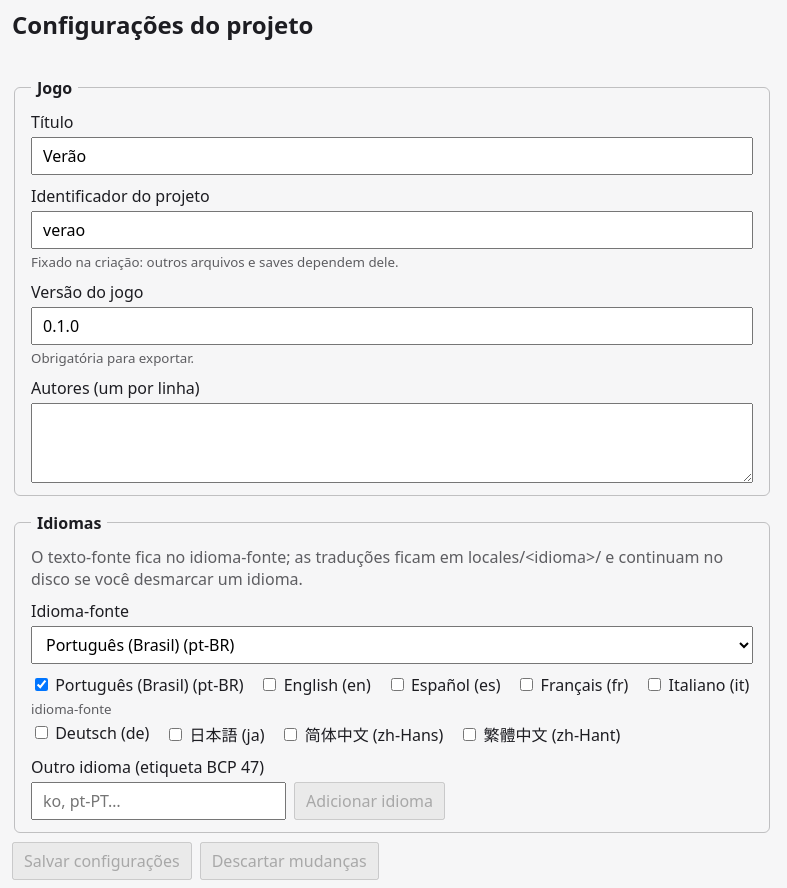
Test: ProjectSettings (M7-10) › descarta mudanças
The width and height of the screenshot is (787, 888).
Replace the text in the field labelled "Título" with "Outro". click: (392, 156)
box: [31, 137, 753, 175]
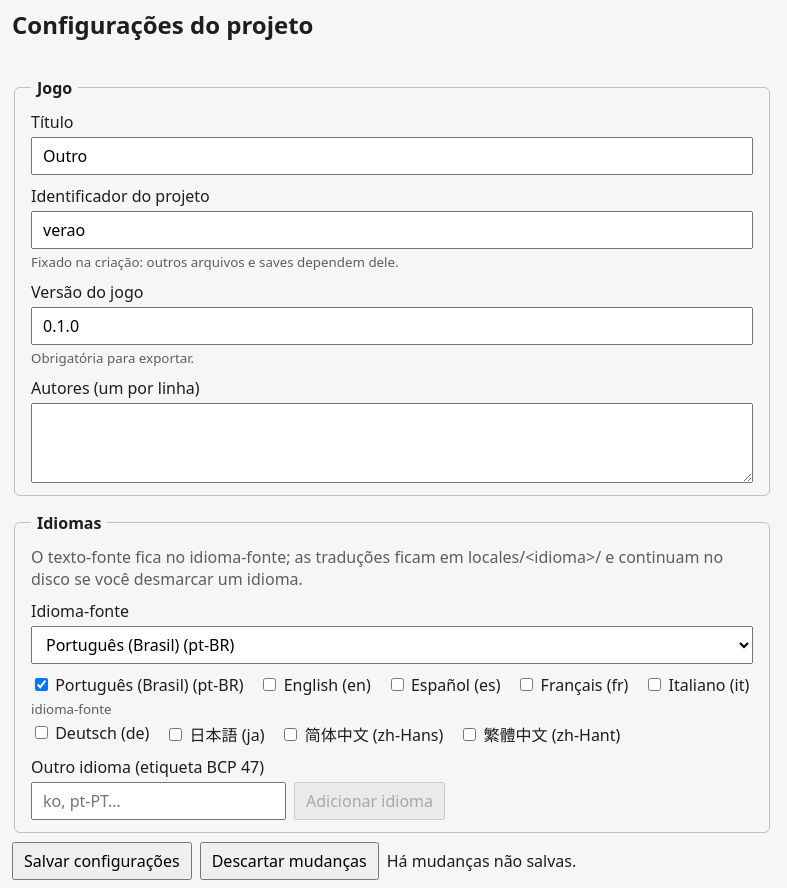
expect the text "Há mudanças não salvas." is shown: met, box [387, 850, 576, 872]
Click the button "Descartar mudanças". click: (289, 861)
box: [200, 842, 379, 880]
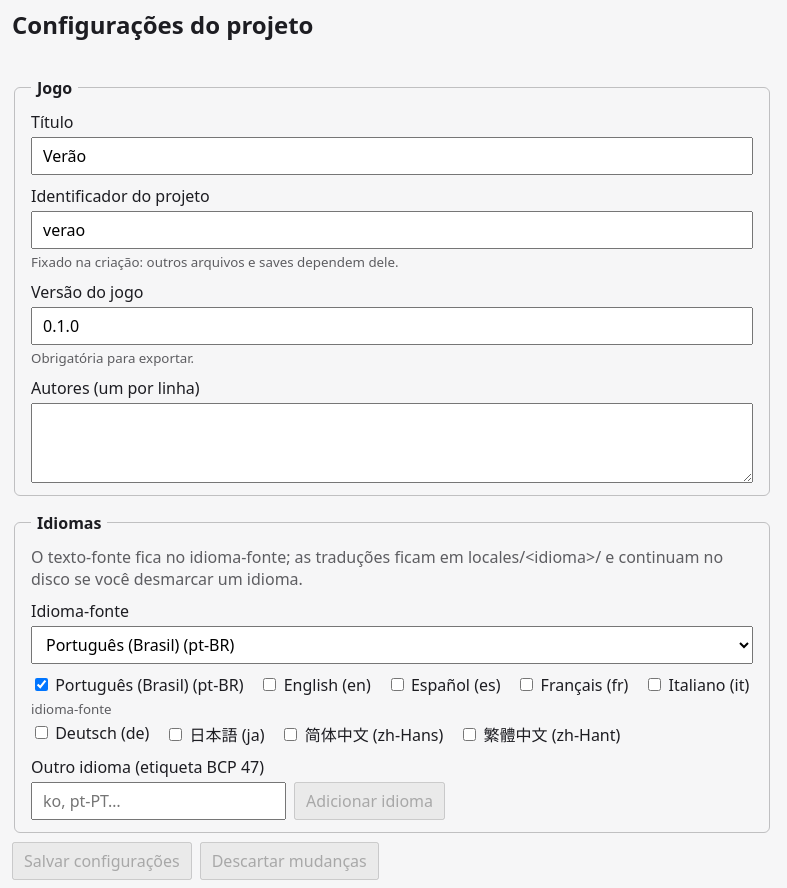
expect the field labelled "Título" holds "Verão": met, box [31, 137, 753, 175]
